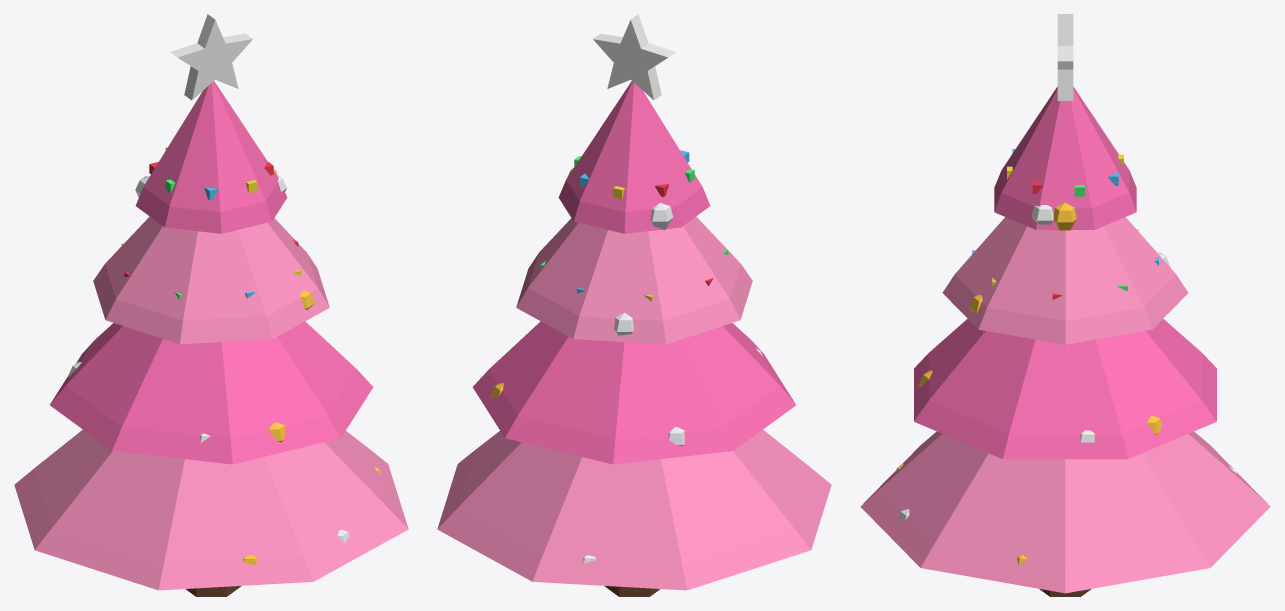
File: PinkChristmasTree.fbx
3 views of the same model, side by side, from view 1: azimuth 30°, elevation 25°; view 2: azimuth 150°, elevation 25°; view 3: azimuth 270°, elevation 25° (orthographic).
Parts seen in each view (by area): view 1: PinkChristmasTree; view 2: PinkChristmasTree; view 3: PinkChristmasTree.
Boxes of the visible parts, x1,y1,x2,y2 form: PinkChristmasTree: (14, 14, 408, 596); PinkChristmasTree: (437, 14, 831, 596); PinkChristmasTree: (860, 14, 1270, 596).
Bounding box in the file's own units: 8 × 12.3 × 8.
1 material, 1 textured.
